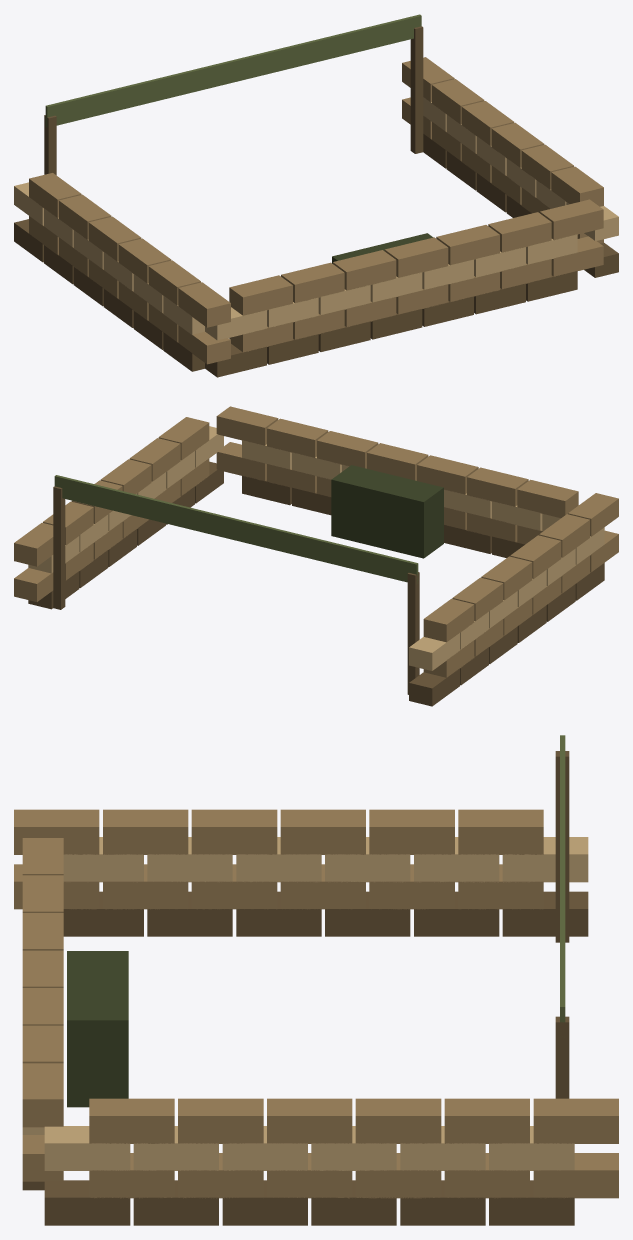
The model's file is env_sandbag_bunker.fbx.
The picture shows the model from 3 angles, top to bottom: view 1: azimuth 30°, elevation 25°; view 2: azimuth 150°, elevation 25°; view 3: azimuth 270°, elevation 25°; orthographic projection. The views are drawn at different scales.
Parts seen in each view (by area): view 1: env_sandbag_bunker; view 2: env_sandbag_bunker; view 3: env_sandbag_bunker.
Boxes of the visible parts, x1=… form: env_sandbag_bunker: x1=14, y1=14, x2=618, y2=377; env_sandbag_bunker: x1=14, y1=406, x2=618, y2=706; env_sandbag_bunker: x1=14, y1=735, x2=618, y2=1225.
Size of the model in its own units: 1060 by 325 by 885.
